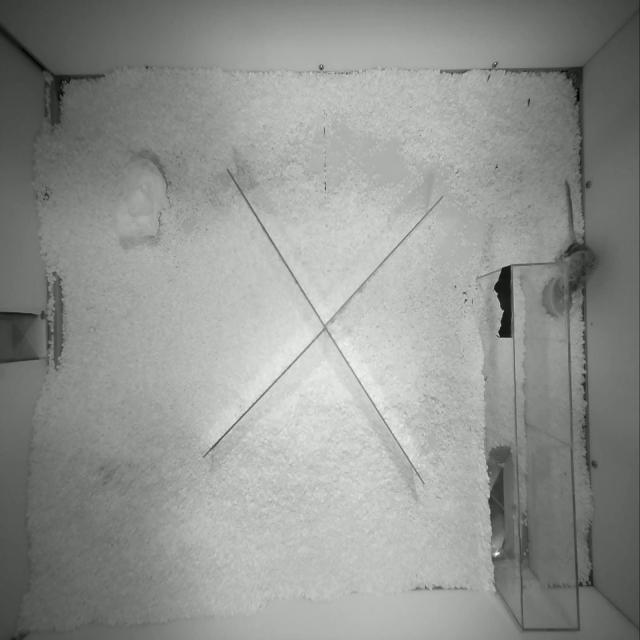adult_back: (556, 181, 598, 293)
